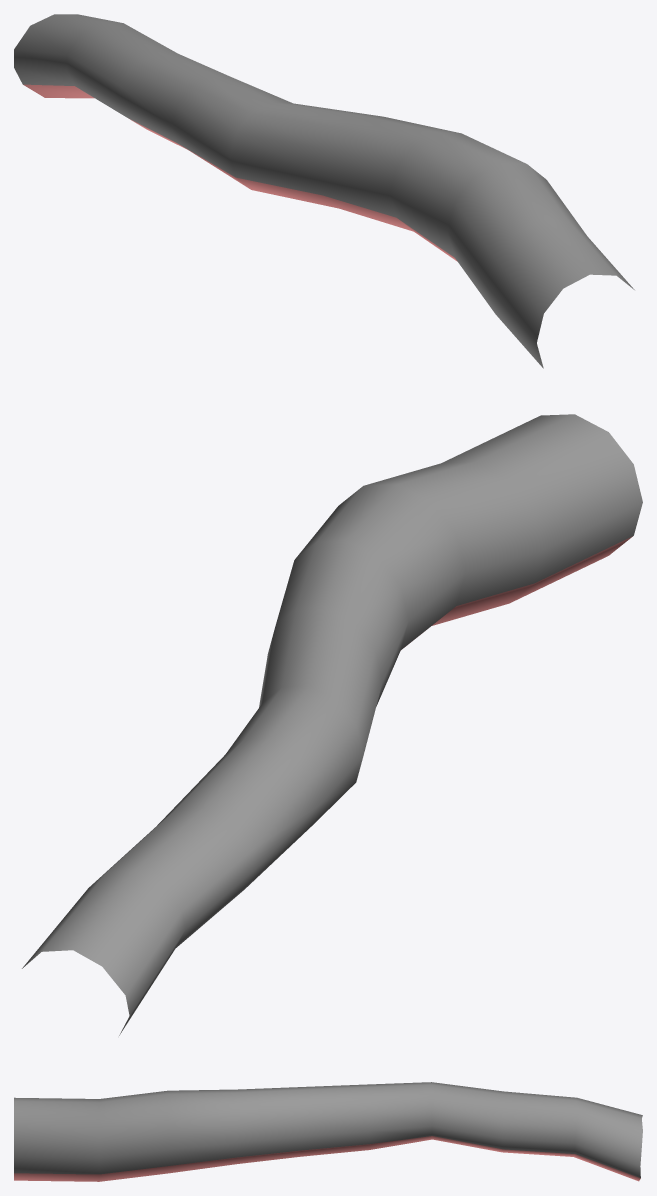
The picture shows the model from 3 angles, top to bottom: view 1: azimuth 30°, elevation 25°; view 2: azimuth 150°, elevation 25°; view 3: azimuth 270°, elevation 25°; orthographic projection. The views are drawn at different scales.
Parts seen in each view (by area): view 1: root_03; view 2: root_03; view 3: root_03.
Boxes of the visible parts, left/top/right/bottom form: root_03: left=14, top=14, right=634, bottom=368; root_03: left=22, top=414, right=642, bottom=1035; root_03: left=14, top=1082, right=642, bottom=1181.
Bounding box in the file's own units: 7.14 × 5.83 × 29.83.
